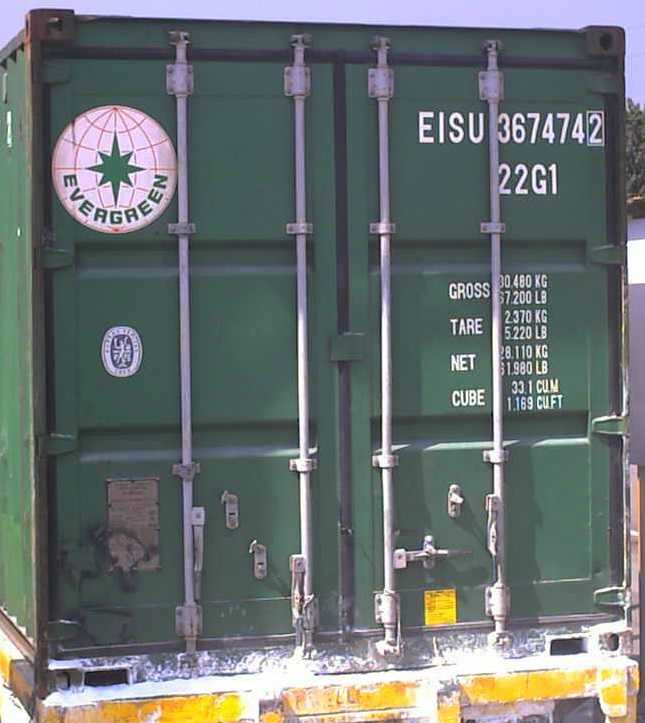container_door: (41, 15, 627, 701)
